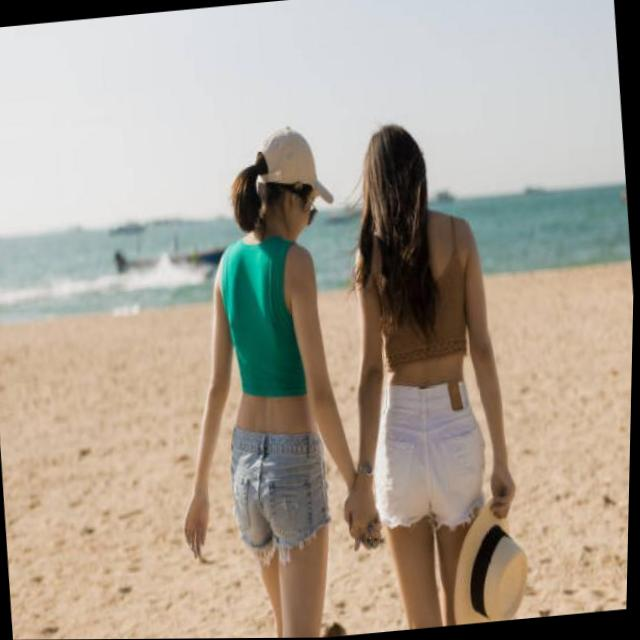no helmet: (351, 120, 443, 258)
